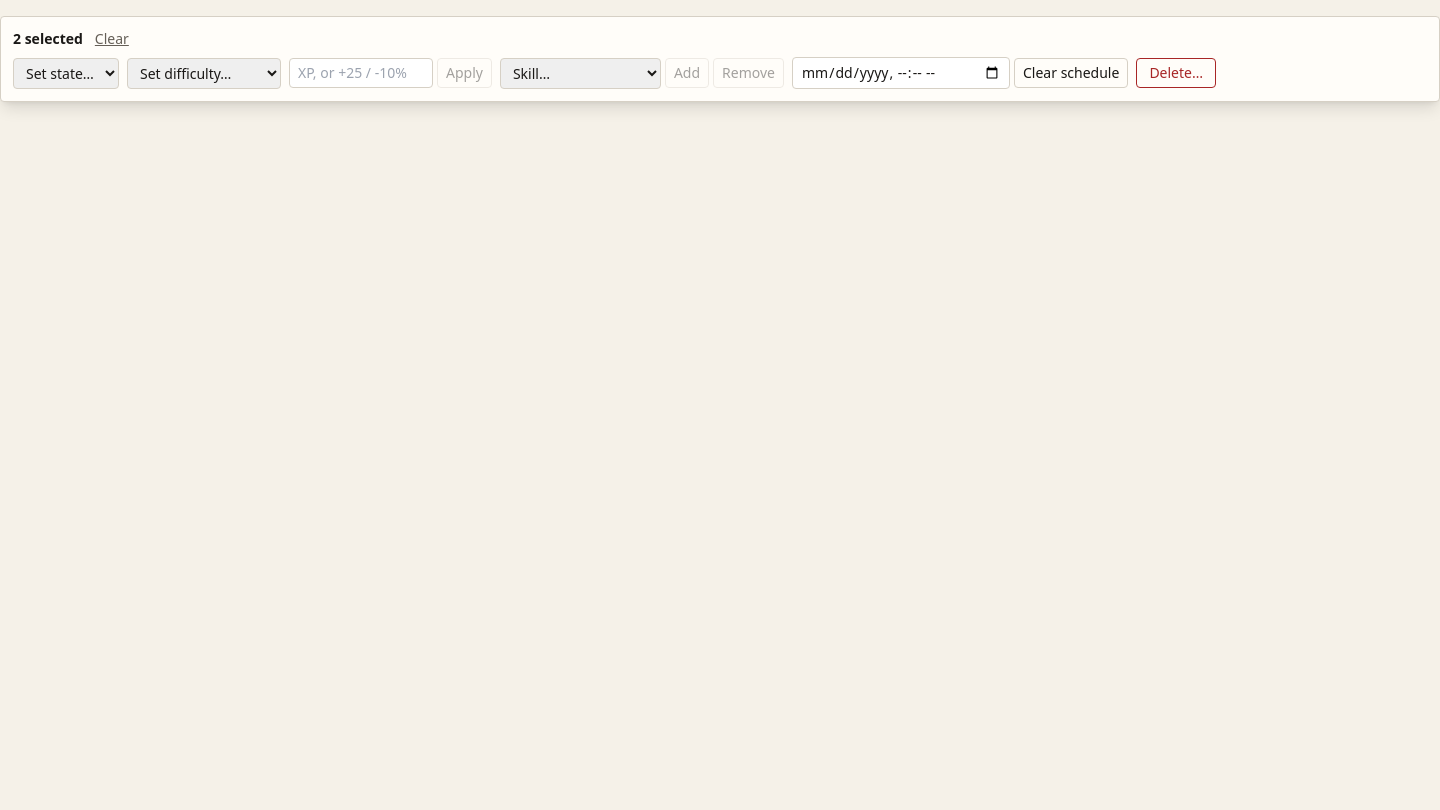
Scenario: BulkToolbar › names the zone a delete would take with it
Click the button "Delete…".
click(1176, 73)  # box [1136,58,1216,88]
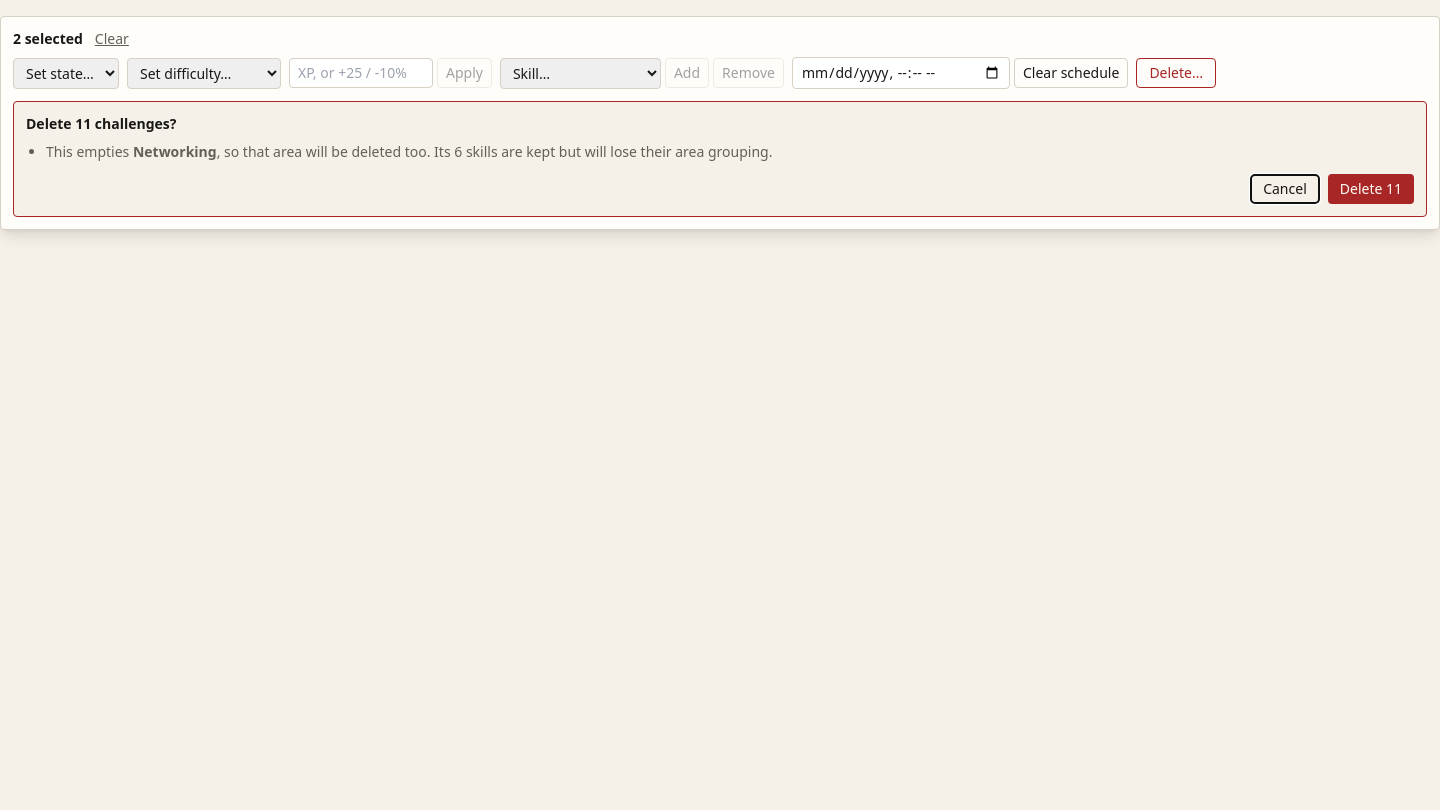
Result: the dialog named "Confirm delete" shows "This empties Networking" at [13,101,1427,217]
Result: the dialog named "Confirm delete" shows "6 skills are kept" at [13,101,1427,217]
